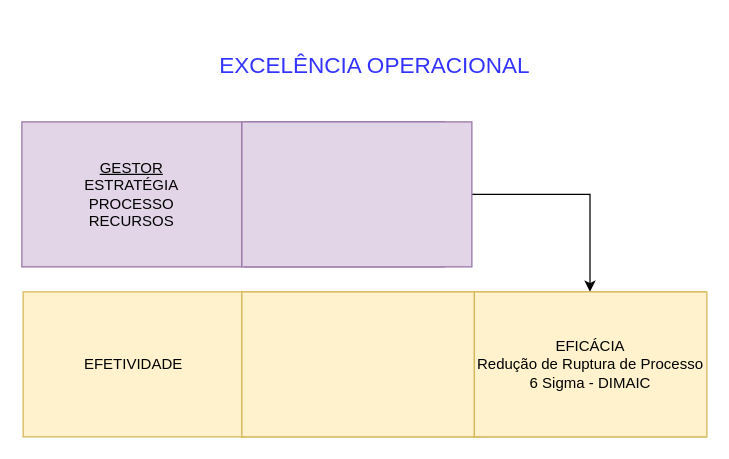
Some shapes in this 729 by 459 pixel diagram are drawn without their labels. The centre of each missing label's shape, as x and y in pixels:
EFICIÊNCIA Otimização de Processo Lean Tempo e Custo: the point at 357,364
LÍDER CULTURA ORGANIZACIONAL LIDERANÇA PESSOAS: the point at 356,194
